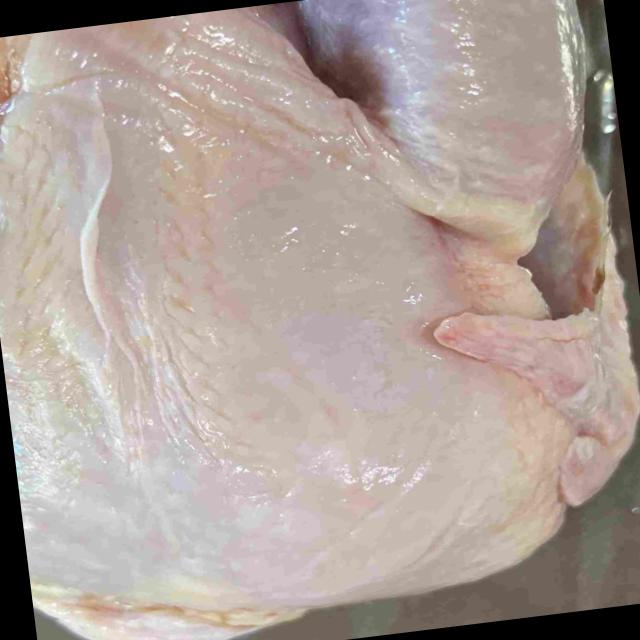breast: (0, 8, 557, 611)
leg: (317, 0, 584, 208)
wing: (435, 168, 640, 516)
